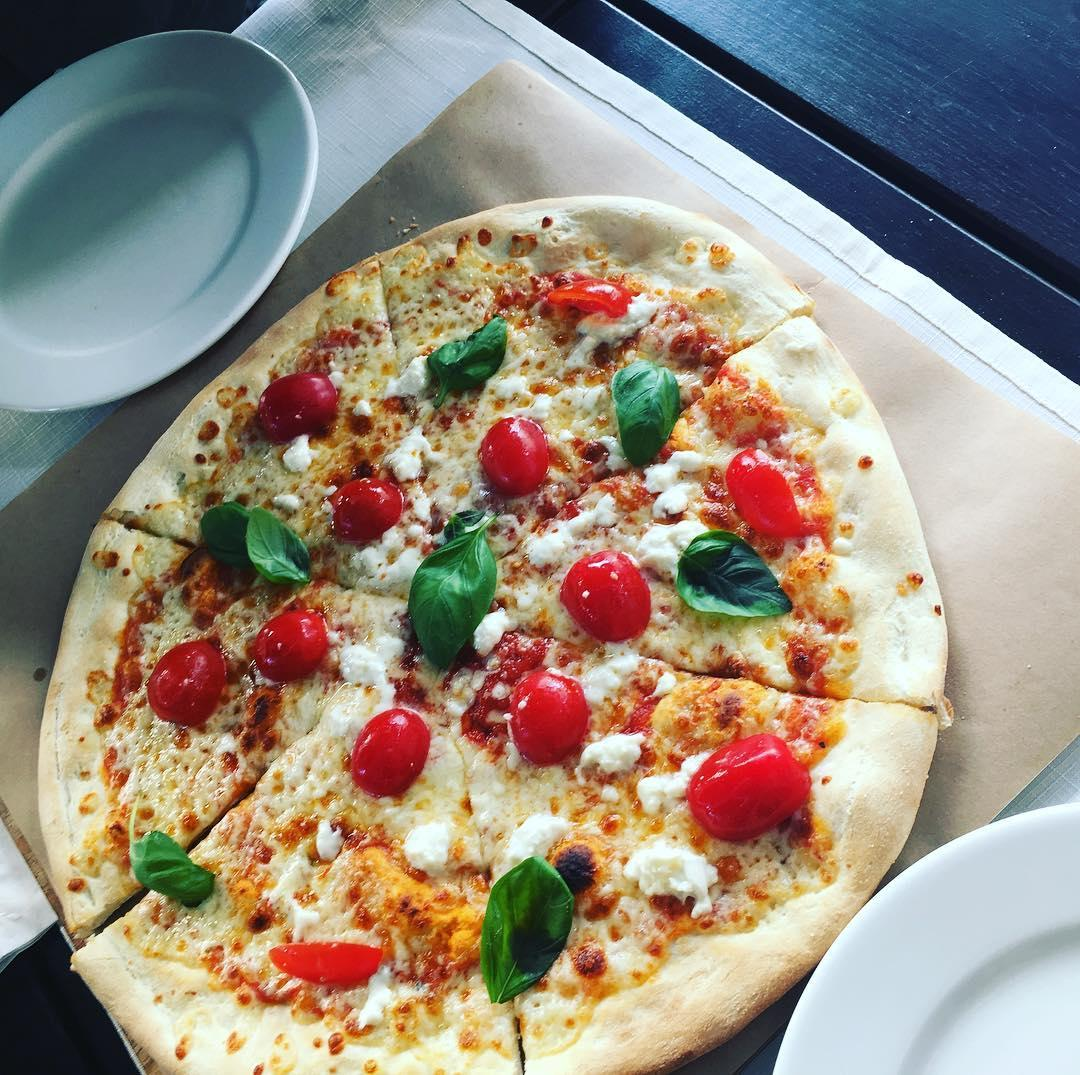Basil: (480, 859, 573, 1005), (412, 515, 497, 674), (198, 505, 317, 586), (681, 534, 791, 616), (429, 315, 510, 406), (132, 829, 217, 907), (616, 370, 685, 466)
Cheese: (565, 298, 669, 369), (628, 842, 721, 914), (533, 499, 615, 567), (358, 520, 434, 587), (643, 449, 715, 519), (341, 638, 405, 701), (635, 525, 708, 573), (412, 815, 458, 872), (384, 425, 432, 479), (638, 771, 691, 816), (590, 736, 642, 773), (382, 351, 408, 381)
Pizza: (35, 204, 947, 1075)
Tomatoes: (691, 734, 813, 842), (559, 555, 653, 644), (726, 449, 811, 539), (515, 674, 590, 769), (350, 707, 429, 796), (144, 642, 225, 726), (267, 940, 381, 989), (478, 422, 553, 493), (255, 608, 327, 679), (260, 380, 337, 437), (331, 481, 404, 537), (550, 273, 629, 319)
